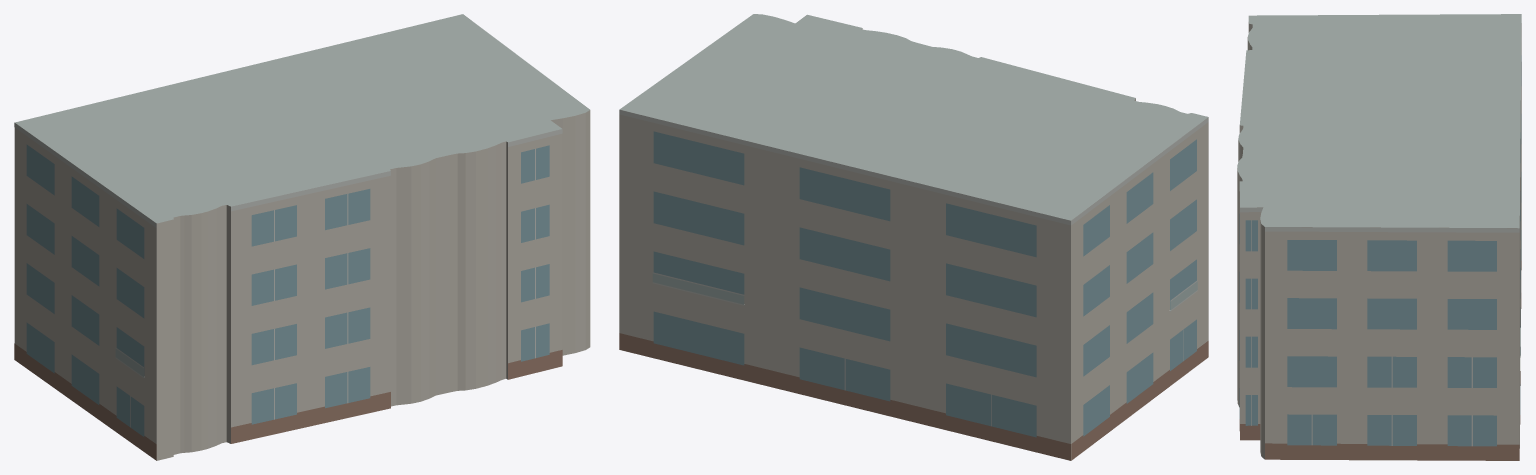
File: survey-upis-32774570.glb
3 views of the same model, side by side, from view 1: azimuth 30°, elevation 25°; view 2: azimuth 150°, elevation 25°; view 3: azimuth 270°, elevation 25° (orthographic). The views are drawn at different scales.
Parts seen in each view (by area): view 1: survey-upis-32774570.tmp; view 2: survey-upis-32774570.tmp; view 3: survey-upis-32774570.tmp.
Part boxes in pixels (<box>): survey-upis-32774570.tmp: <box>14,14,590,460</box>; survey-upis-32774570.tmp: <box>619,14,1208,460</box>; survey-upis-32774570.tmp: <box>1237,14,1521,460</box>.
Bounding box in the file's own units: 24.08 × 12.2 × 13.51.
